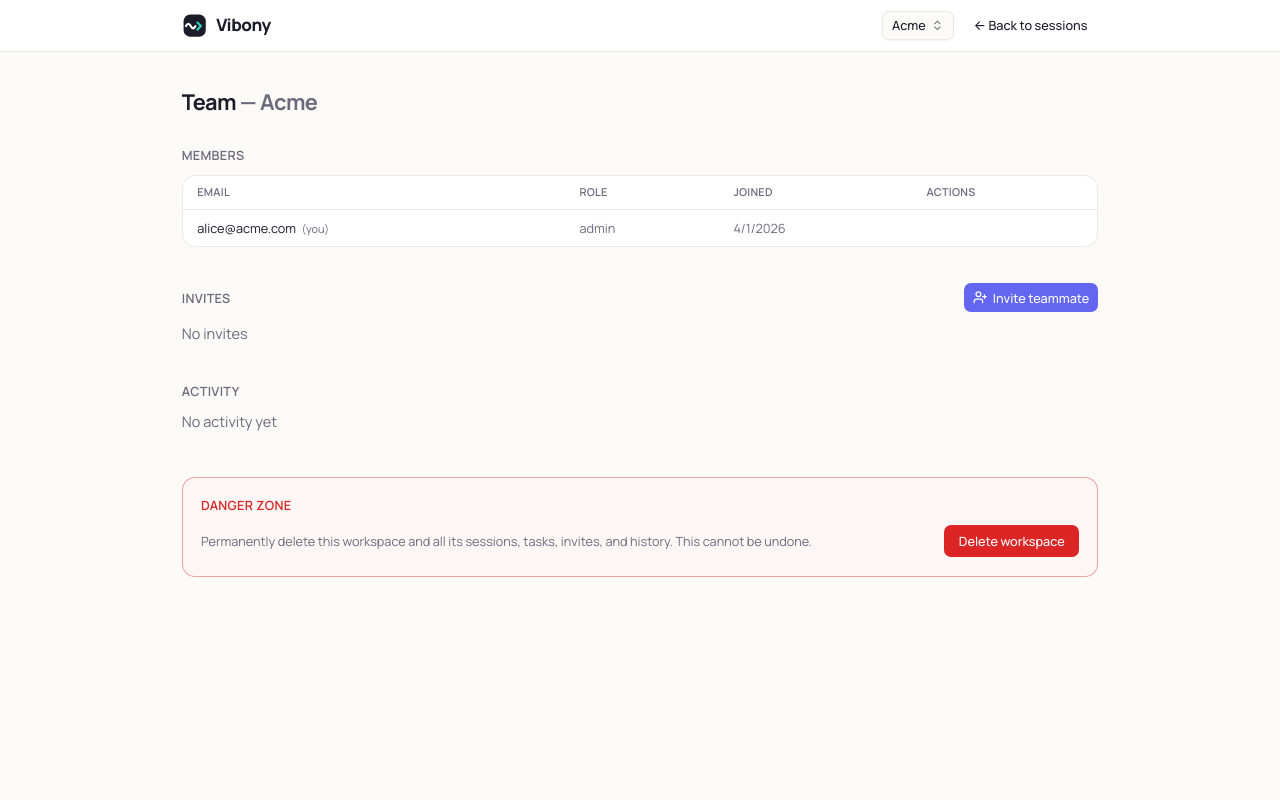
it: TeamPage › surfaces a delete-workspace error and keeps the page
Check: the element with test id "danger-zone" is shown, box left=182, top=477, right=1098, bottom=577
Click the button with test id "delete-workspace-button": (1012, 541) left=944, top=525, right=1079, bottom=557
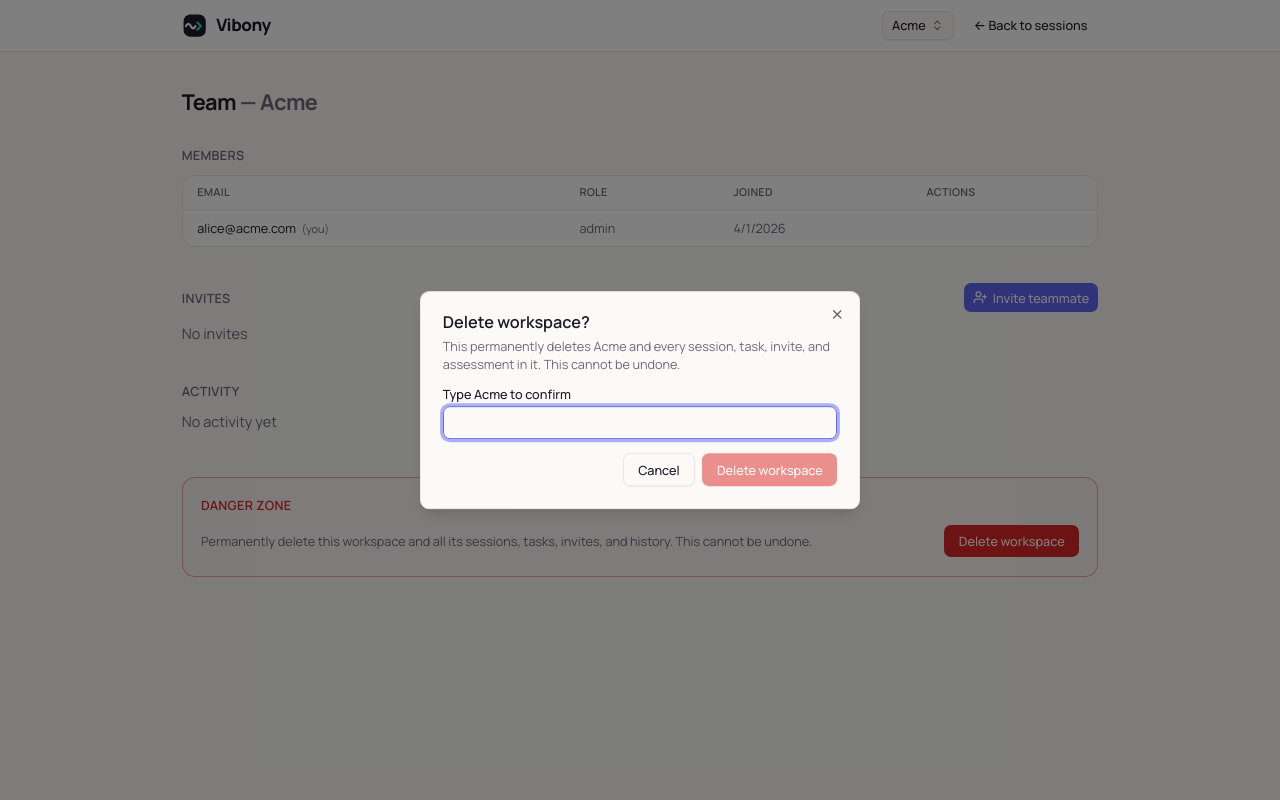
In the field with test id "delete-workspace-input": (640, 423) left=443, top=406, right=837, bottom=439, type "Acme"
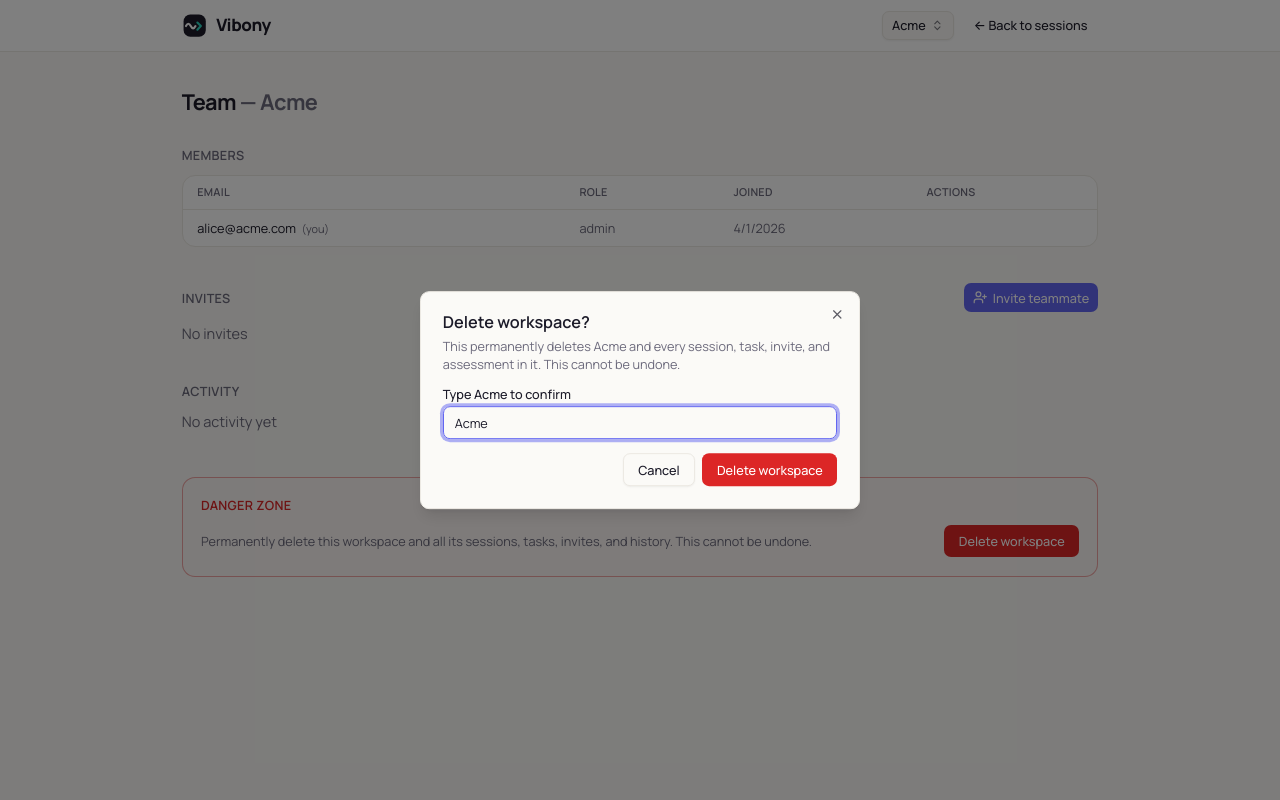
Submit the form with test id "delete-workspace-form", box left=443, top=388, right=837, bottom=486
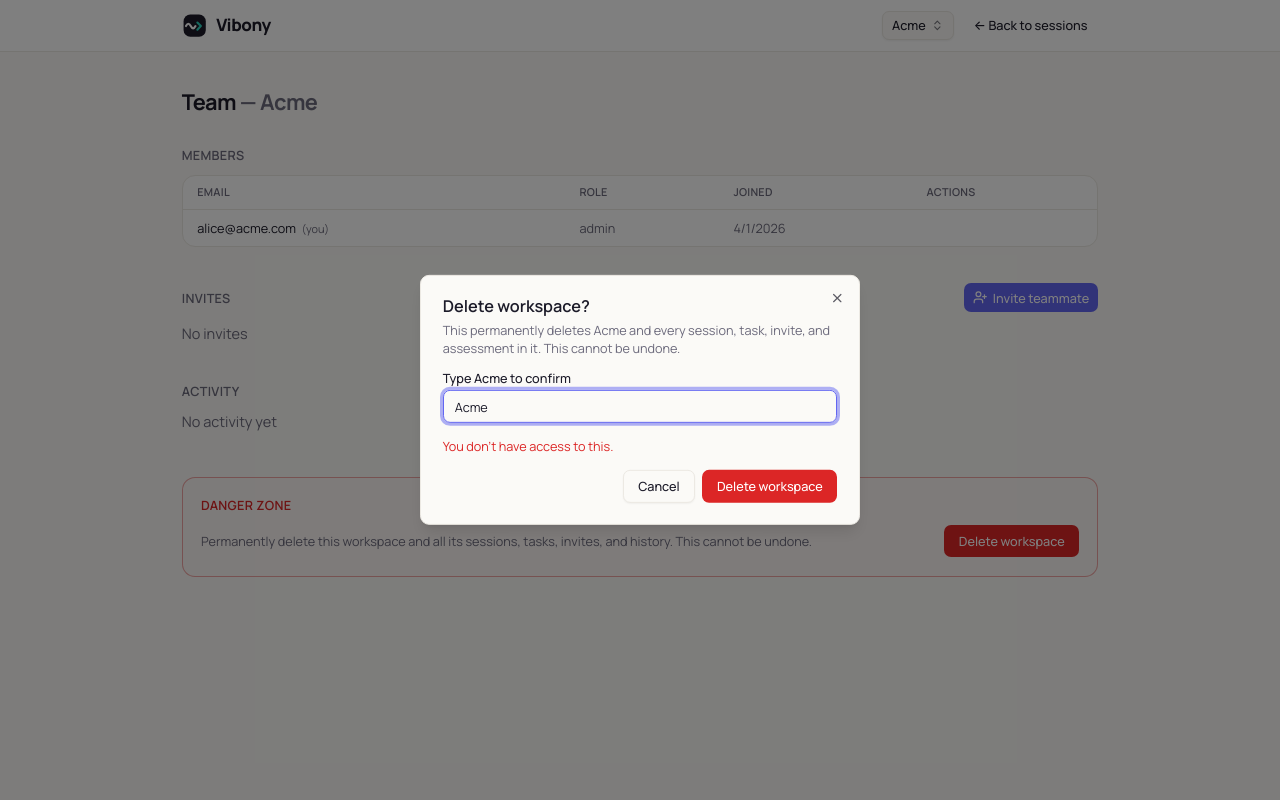
Check: the message "You don't have access to this." is shown, box left=443, top=437, right=614, bottom=455
